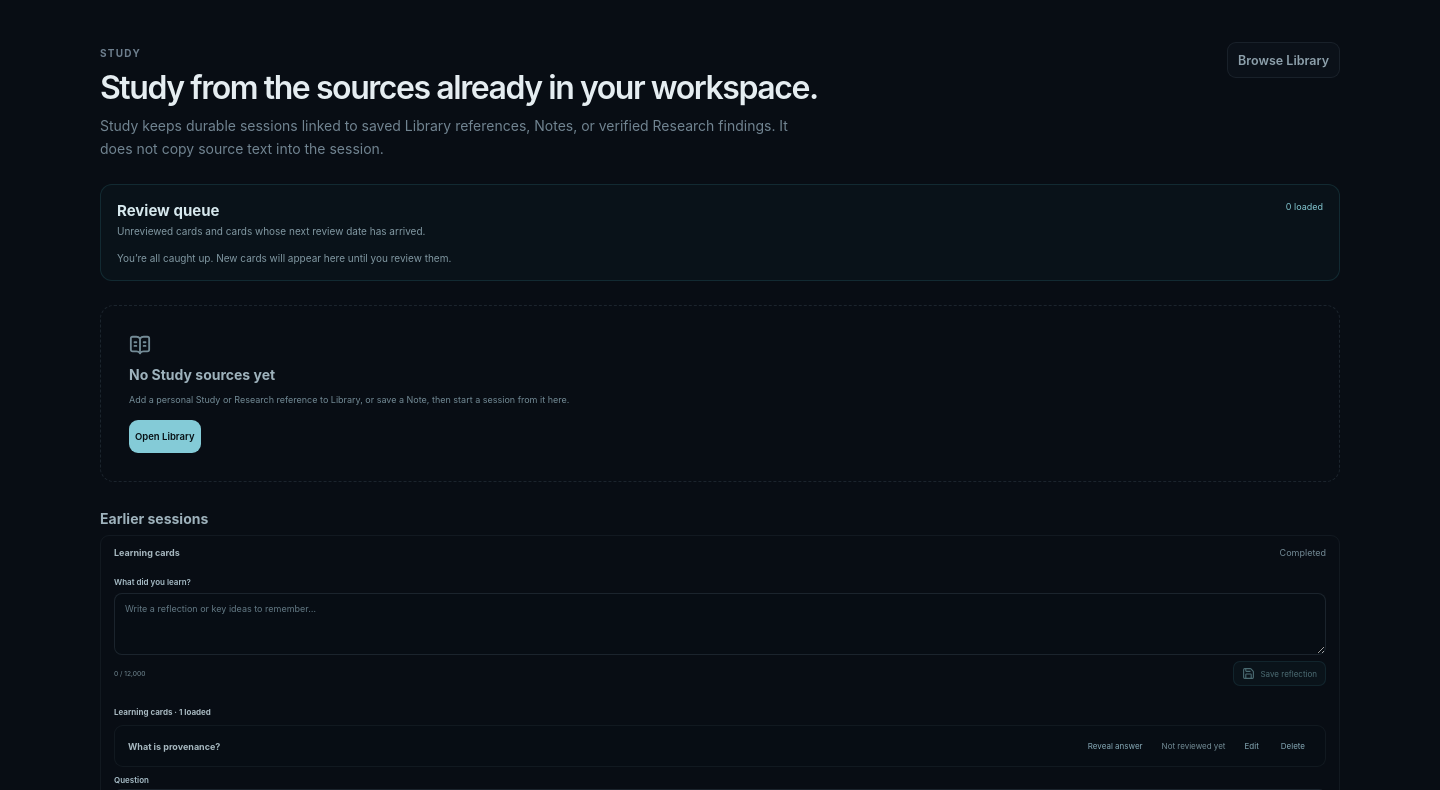
Scenario: StudyView › persists a review rating and displays the next review date
Click the button "Reveal answer". click: (1115, 746)
box: [1081, 737, 1150, 755]
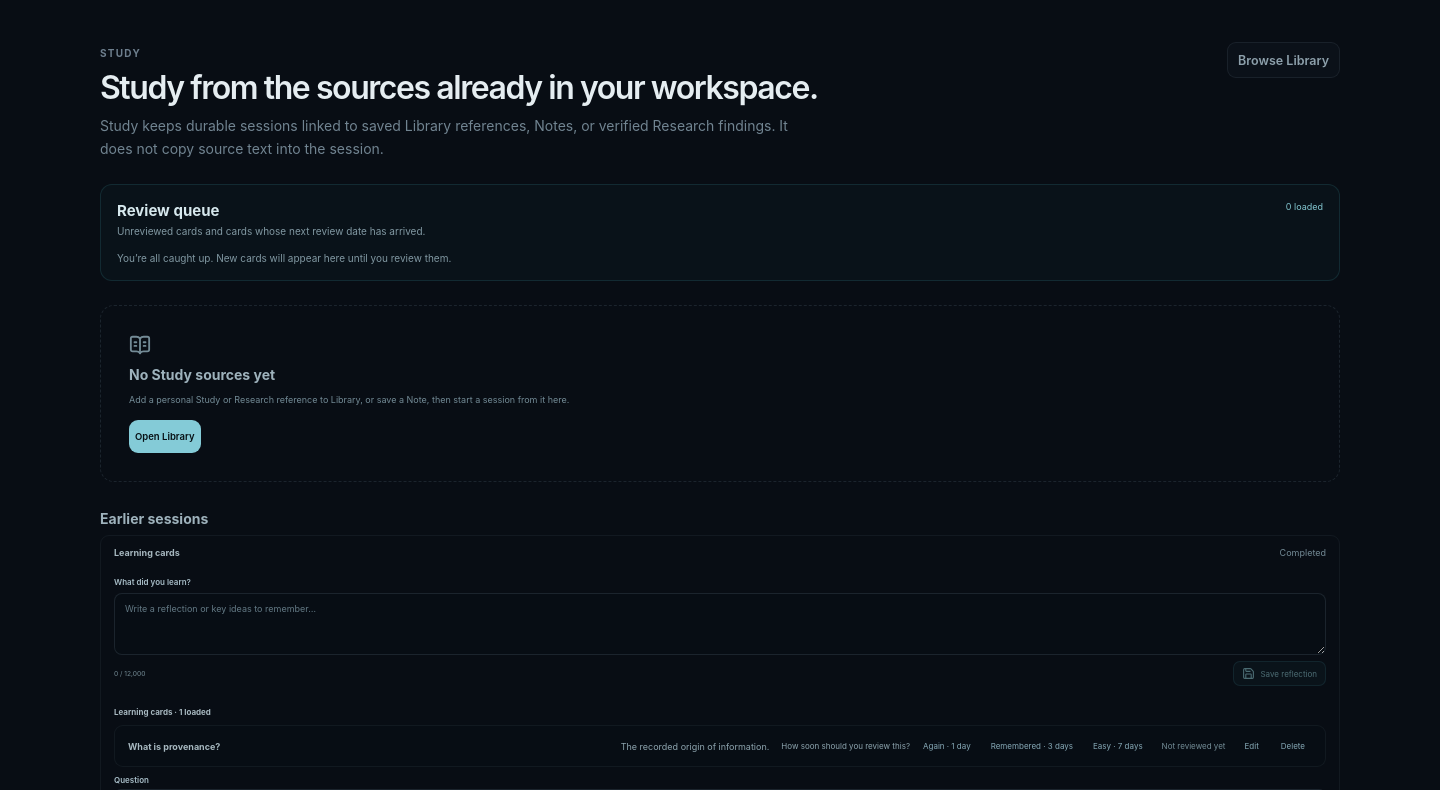
Click the button "Remembered · 3 days". click: (1032, 746)
box: [984, 737, 1080, 755]
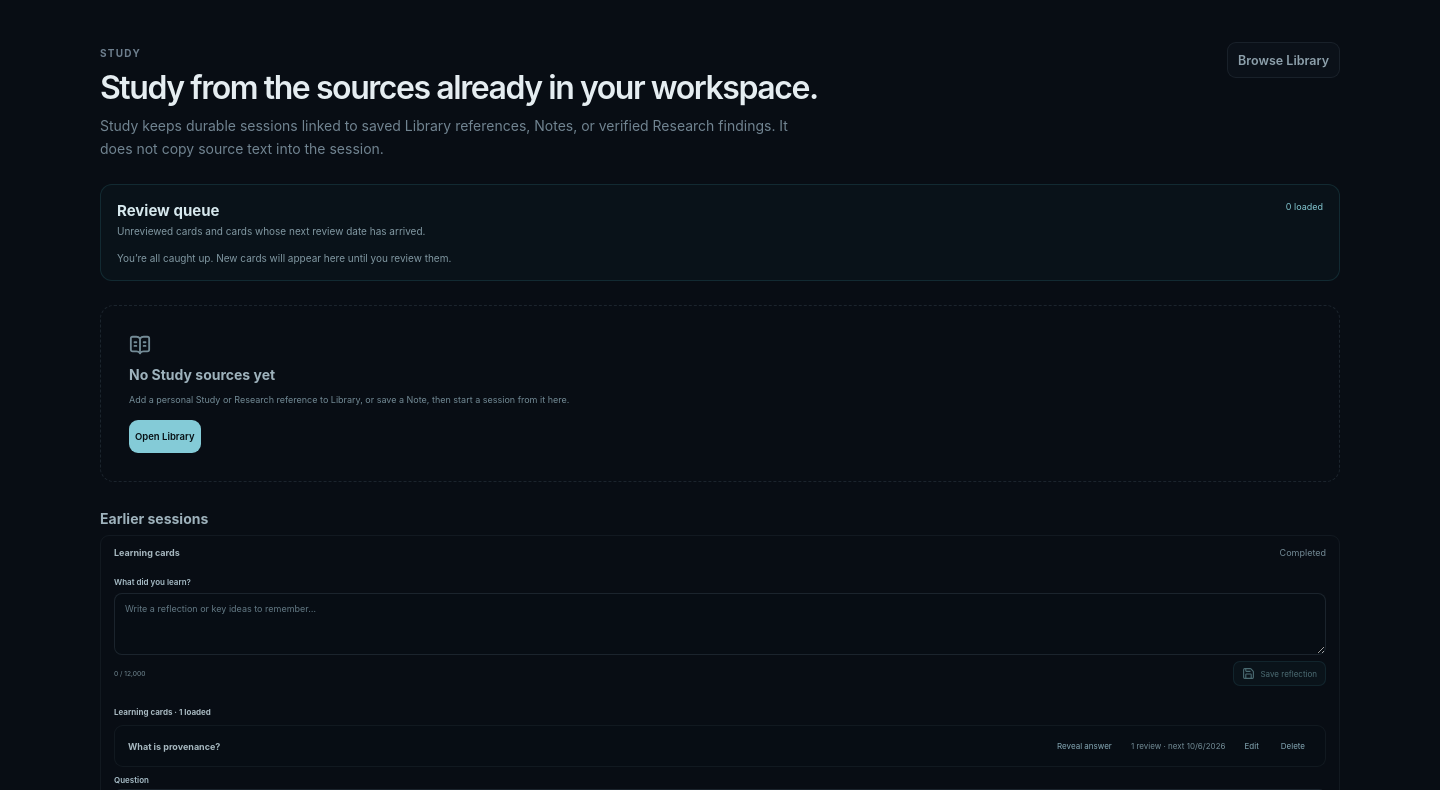
Expected: the text "1 review · next 10/6/2026" is shown, [1131, 741, 1226, 751]
